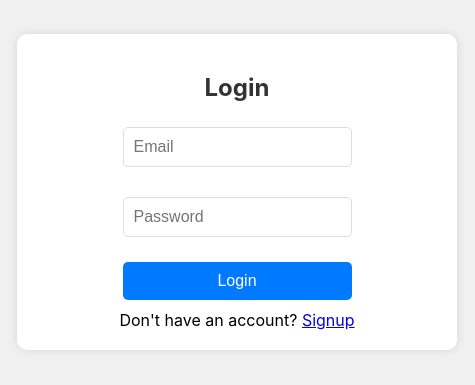
displays_email_required_error_when_email_is_empty
Click the button "Login".
click(237, 282)  # box [122,262,352,300]
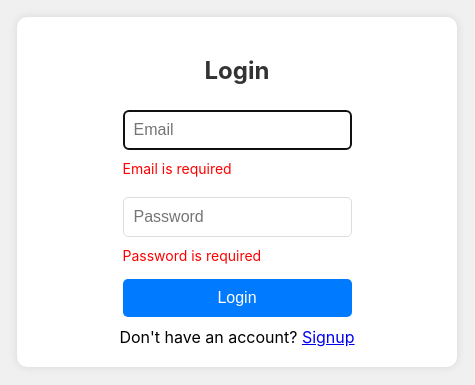
expect the text "Email is required" is shown: met, box [122,160,232,178]
